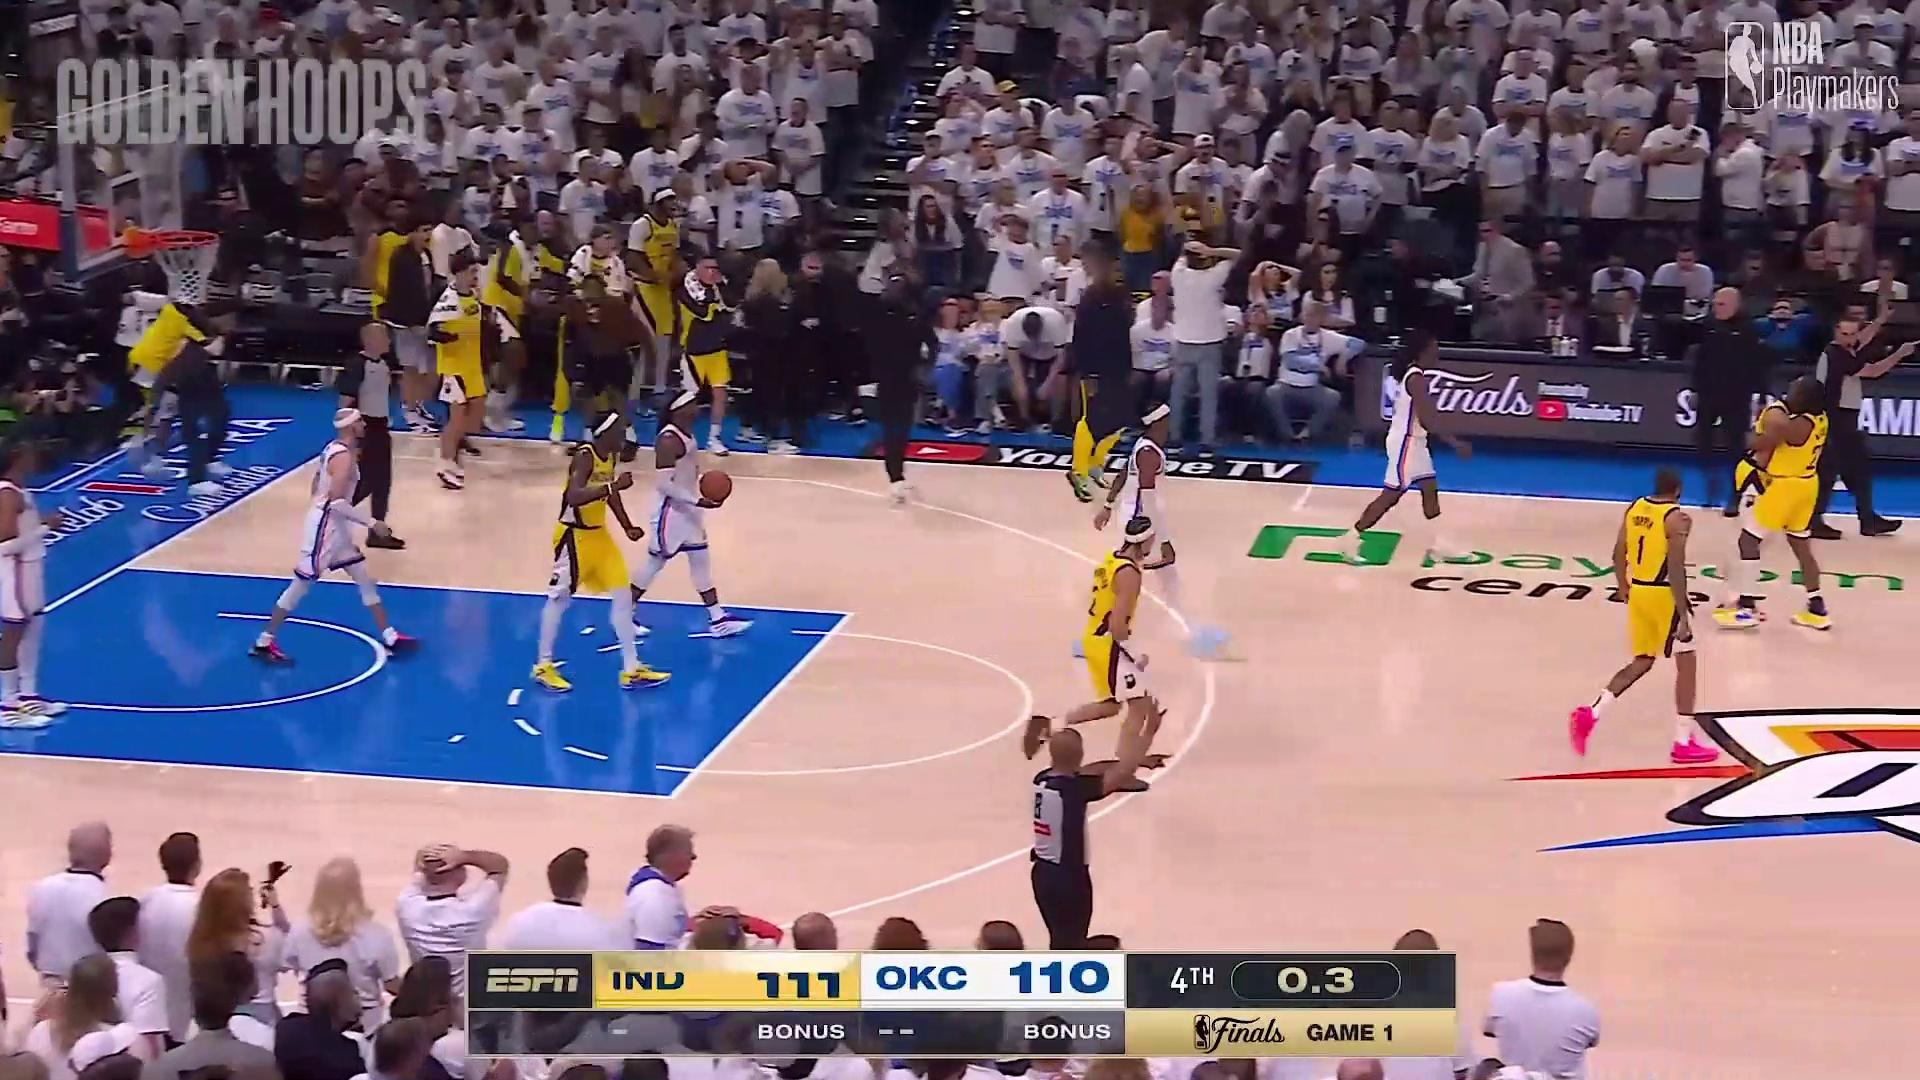ball: (698, 468, 735, 508)
hoop: (152, 216, 220, 316)
